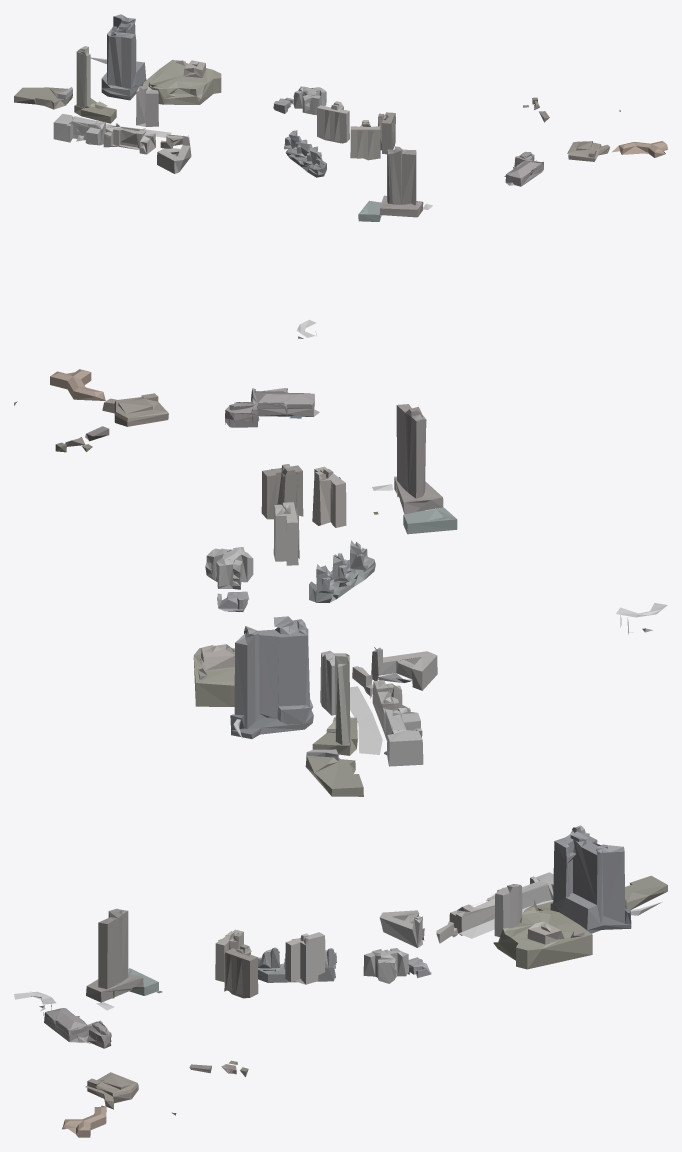
3 renders of one model, top to bottom at view 1: azimuth 30°, elevation 25°; view 2: azimuth 150°, elevation 25°; view 3: azimuth 270°, elevation 25°, orthographic. The views are drawn at different scales.
Visible parts, largest first — view 1: buildings, infrastructure; view 2: buildings, infrastructure; view 3: buildings, infrastructure.
Part boxes in pixels (x1=…): buildings: x1=14, y1=14, x2=667, y2=221; infrastructure: x1=73, y1=57, x2=432, y2=338; buildings: x1=14, y1=369, x2=457, y2=796; infrastructure: x1=233, y1=484, x2=667, y2=754; buildings: x1=44, y1=825, x2=667, y2=1137; infrastructure: x1=14, y1=900, x2=661, y2=1015.
Size of the model in its own units: 589 by 205 by 606.
